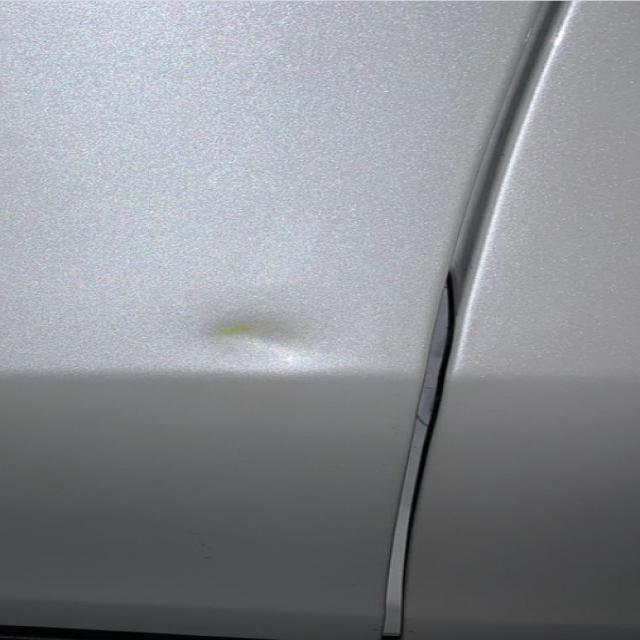dents: (191, 314, 382, 391)
